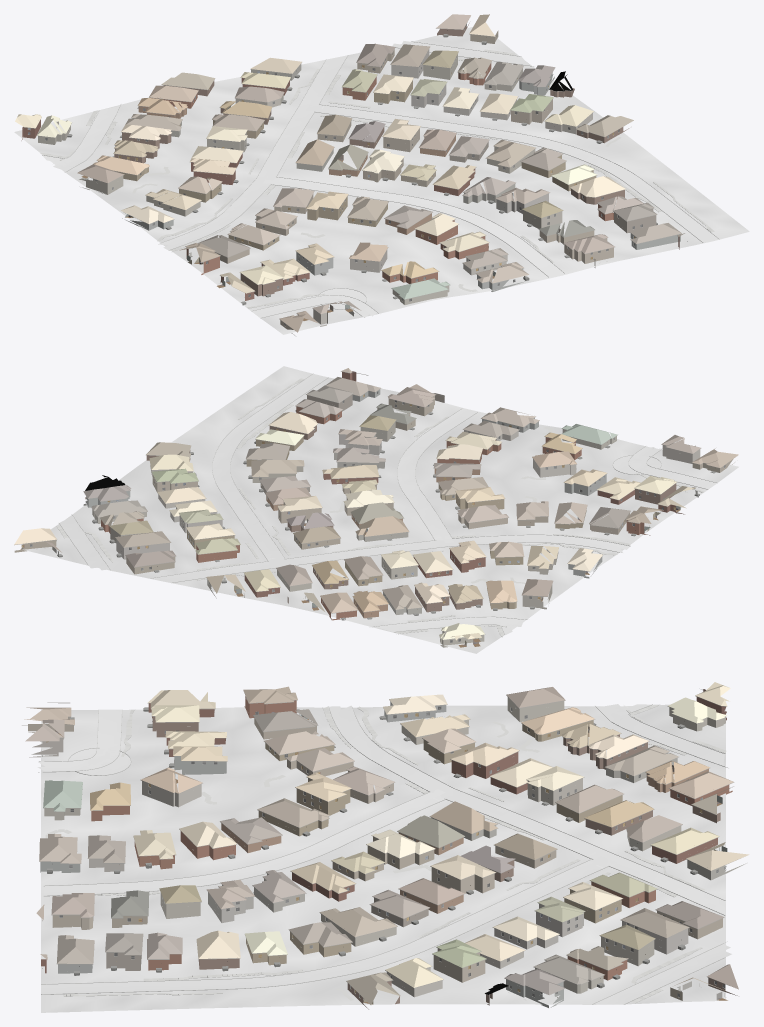
3 renders of one model, top to bottom at view 1: azimuth 30°, elevation 25°; view 2: azimuth 150°, elevation 25°; view 3: azimuth 270°, elevation 25°, orthographic. The views are drawn at different scales.
Parts seen in each view (by area): view 1: ground, roof, concrete, wall, wall_stucco, detail, curb, walk, wall_stone, glass; view 2: ground, roof, concrete, wall, wall_stucco, detail, curb, walk, wall_stone, glass; view 3: ground, roof, concrete, wall, wall_stucco, detail, curb, walk, wall_stone, glass.
Boxes of the visible parts, bbox=[...] form: ground: bbox=[14, 27, 749, 334]; roof: bbox=[15, 14, 684, 332]; concrete: bbox=[42, 41, 718, 317]; wall: bbox=[21, 23, 679, 300]; wall_stucco: bbox=[38, 54, 680, 335]; detail: bbox=[24, 22, 687, 326]; curb: bbox=[42, 41, 719, 318]; walk: bbox=[40, 49, 714, 308]; wall_stone: bbox=[391, 49, 548, 213]; glass: bbox=[45, 24, 642, 325]; ground: bbox=[23, 366, 738, 653]; roof: bbox=[14, 368, 738, 640]; concrete: bbox=[59, 374, 716, 634]; wall: bbox=[14, 371, 684, 620]; wall_stucco: bbox=[85, 389, 734, 647]; detail: bbox=[14, 371, 732, 643]; curb: bbox=[58, 373, 716, 636]; walk: bbox=[56, 378, 703, 636]; wall_stone: bbox=[116, 434, 381, 559]; glass: bbox=[30, 391, 724, 642]; ground: bbox=[41, 704, 725, 1012]; roof: bbox=[24, 682, 749, 1004]; concrete: bbox=[37, 704, 731, 1004]; wall: bbox=[41, 689, 737, 1009]; wall_stucco: bbox=[28, 697, 746, 1007]; detail: bbox=[22, 689, 740, 999]; curb: bbox=[38, 704, 727, 1004]; walk: bbox=[45, 704, 726, 1002]; wall_stone: bbox=[208, 885, 688, 954]; glass: bbox=[59, 705, 726, 997].
Size of the model in its own units: 264 by 17.39 by 269.
